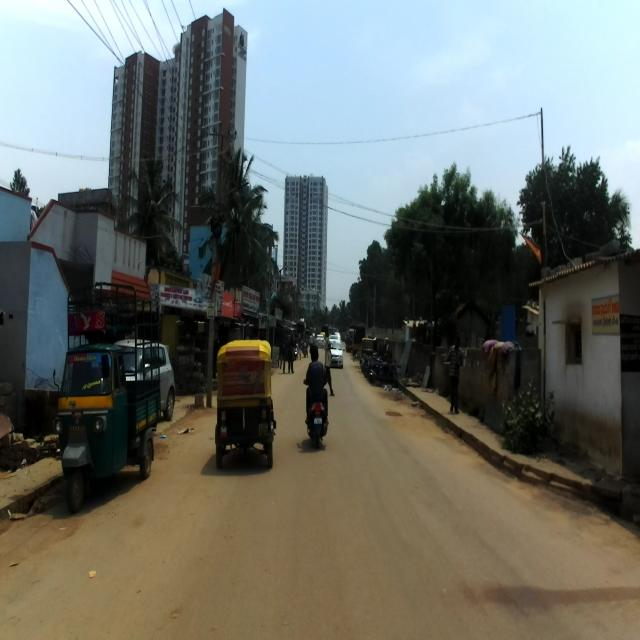autorickshaw: (53, 281, 160, 514), (215, 338, 276, 469)
scooter: (302, 374, 330, 451)
